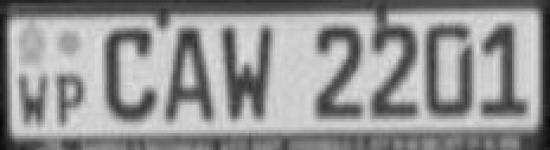0: (423, 19, 476, 123)
1: (478, 17, 535, 125)
2: (308, 21, 367, 123), (371, 21, 422, 124)
A: (162, 24, 220, 125)
C: (103, 25, 156, 124)
P: (54, 69, 98, 131)
W: (222, 23, 280, 127), (12, 68, 52, 130)
